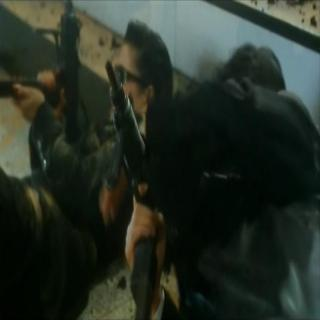gun: (103, 61, 167, 314)
